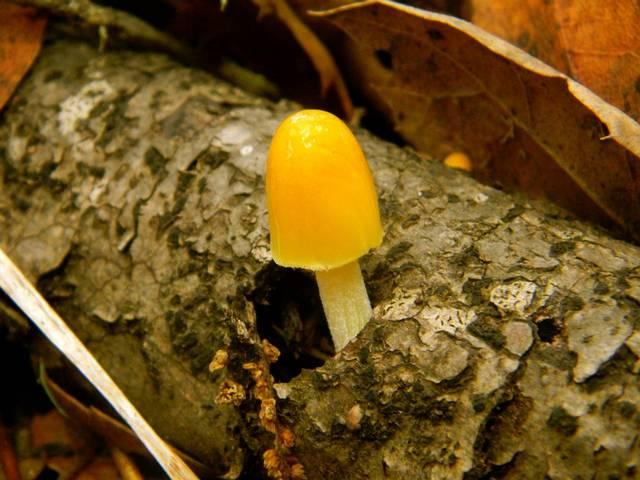edible_mushroom: (263, 107, 385, 353)
